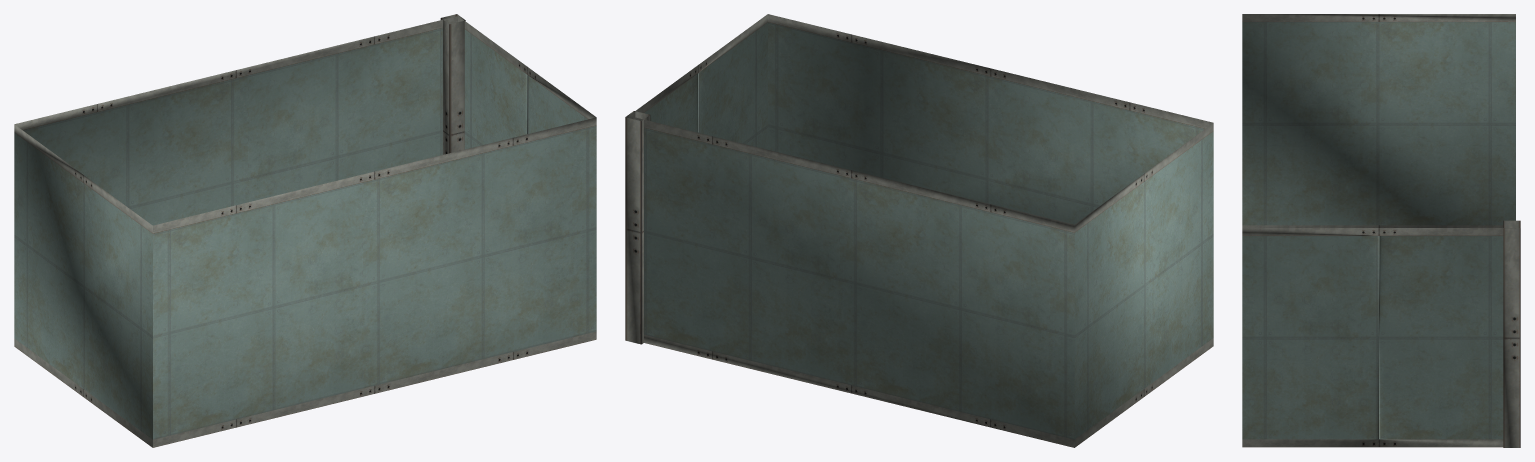
File: Ob_Building1WallSharp_RC.fbx
The picture shows the model from 3 angles, left to right: view 1: azimuth 30°, elevation 25°; view 2: azimuth 150°, elevation 25°; view 3: azimuth 270°, elevation 25°; orthographic projection.
Visible parts, largest first — view 1: Ob_Building1WallSharp_RC; view 2: Ob_Building1WallSharp_RC; view 3: Ob_Building1WallSharp_RC.
Boxes of the visible parts, bbox=[...] form: Ob_Building1WallSharp_RC: bbox=[14, 14, 596, 447]; Ob_Building1WallSharp_RC: bbox=[625, 14, 1213, 447]; Ob_Building1WallSharp_RC: bbox=[1242, 14, 1520, 447].
Size of the model in its own units: 2953 by 1410 by 1618.
